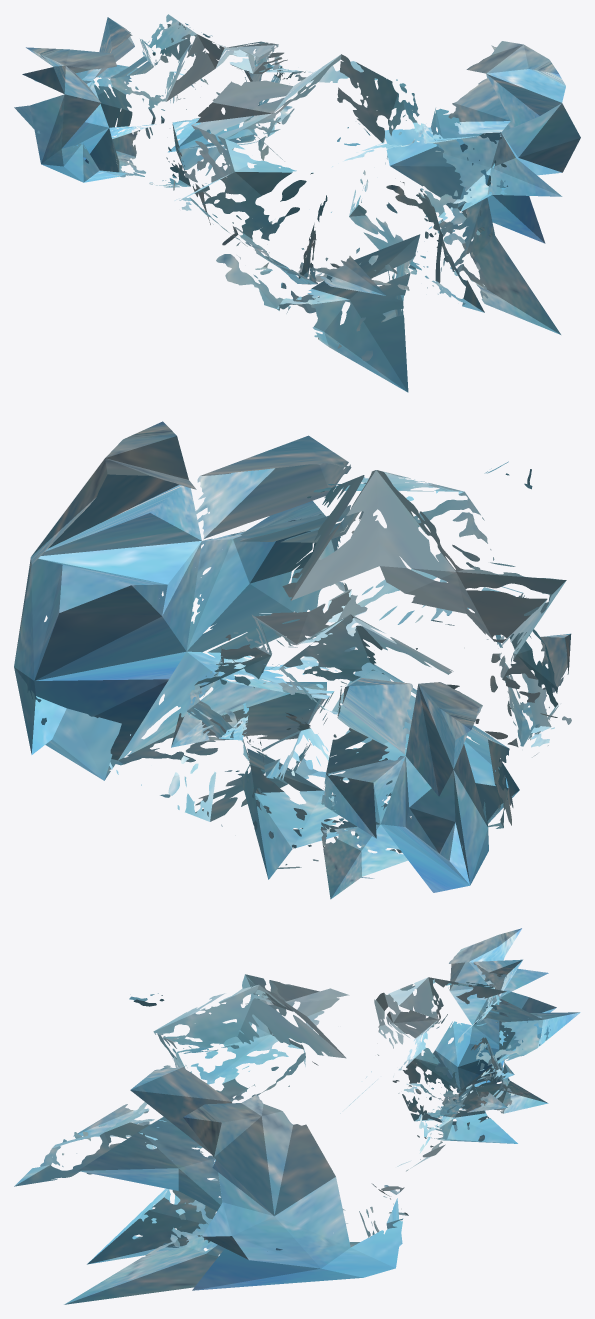
File: wolverine_ltcalf_ice.glb
The picture shows the model from 3 angles, top to bottom: view 1: azimuth 30°, elevation 25°; view 2: azimuth 150°, elevation 25°; view 3: azimuth 270°, elevation 25°; orthographic projection. The views are drawn at different scales.
Parts seen in each view (by area): view 1: wolverine_ltcalf_ice_0; view 2: wolverine_ltcalf_ice_0; view 3: wolverine_ltcalf_ice_0.
Part boxes in pixels (left/top/right/bottom): wolverine_ltcalf_ice_0: left=14, top=14, right=580, bottom=392; wolverine_ltcalf_ice_0: left=14, top=421, right=571, bottom=899; wolverine_ltcalf_ice_0: left=14, top=928, right=580, bottom=1304.
Bounding box in the file's own units: 16.34 × 10.25 × 18.3.
1 material, 1 textured.
